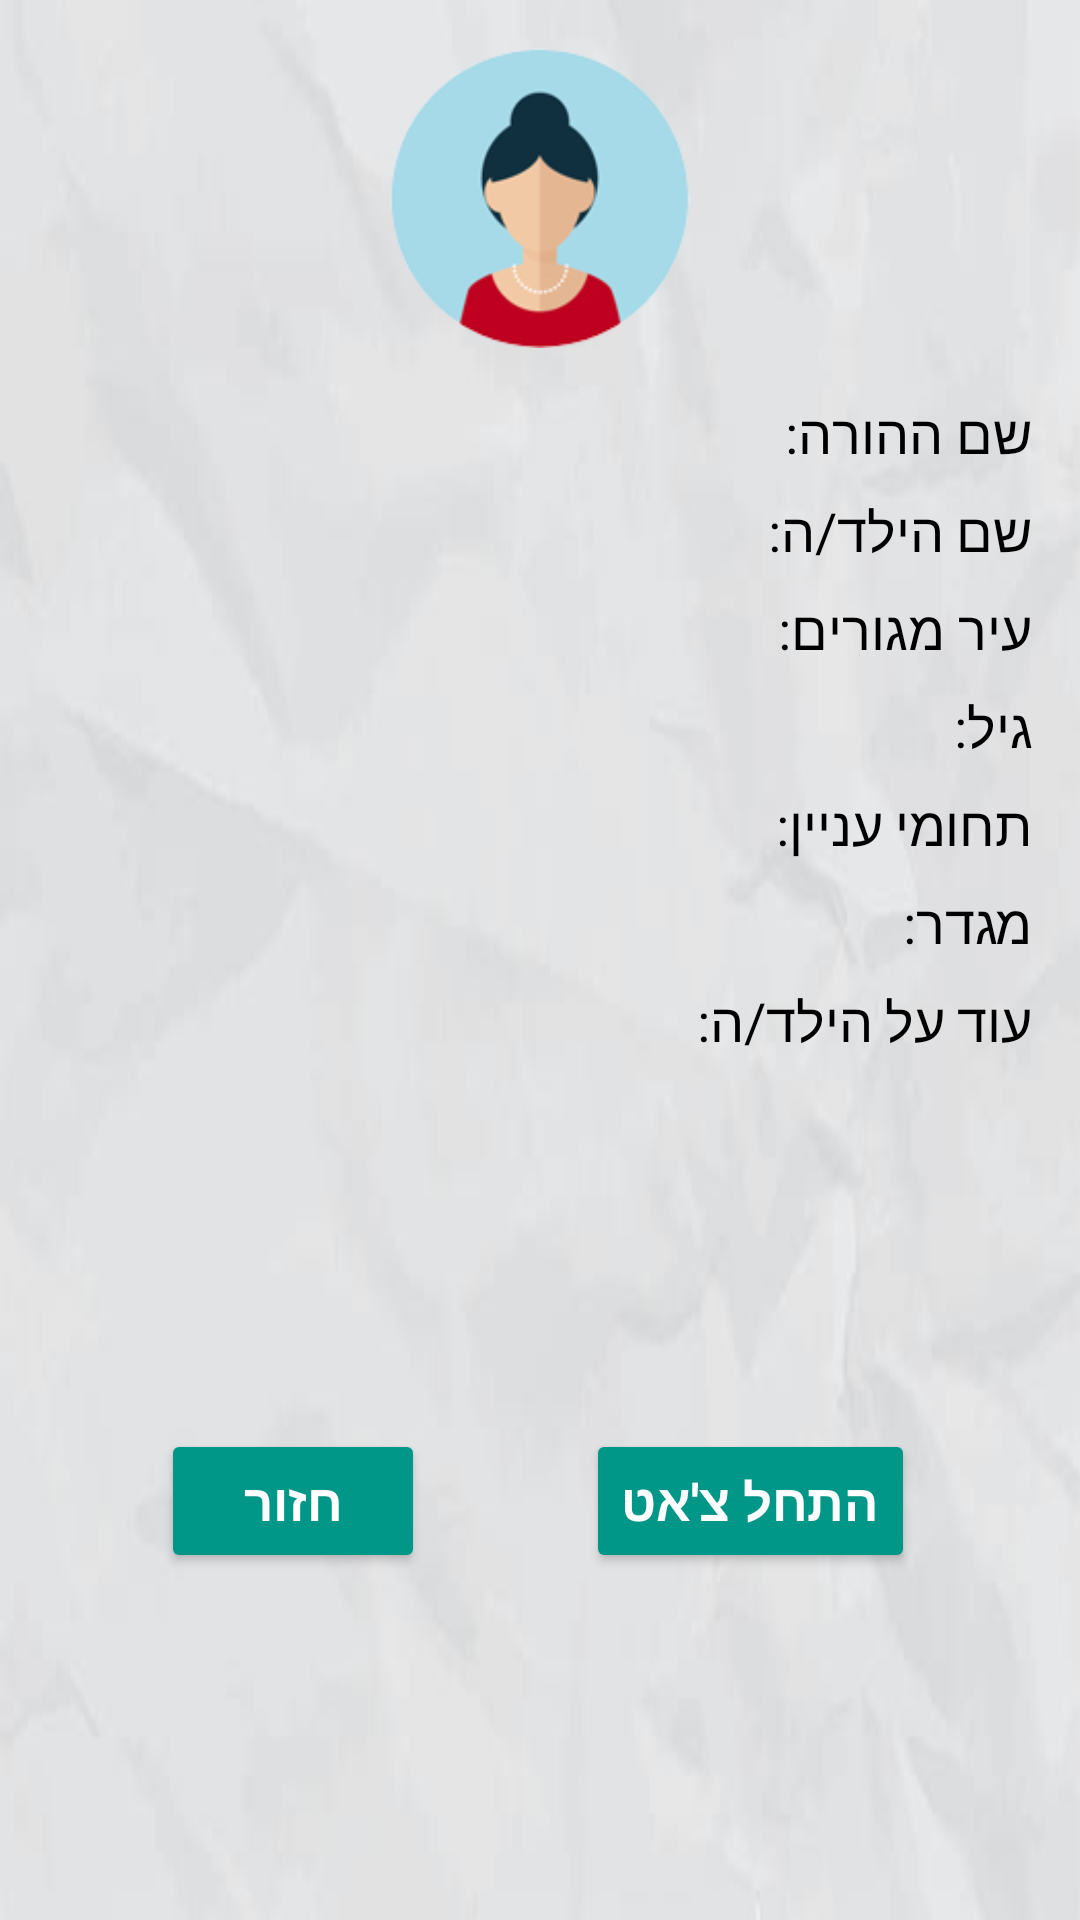

Point at icon controls on the screen. Image size 1080 x 1920, points as (x,y).
profile: (539,199)
